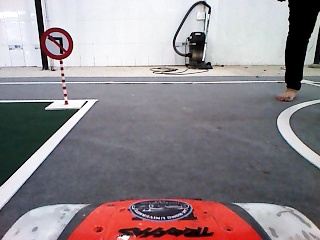ban: (40, 25, 76, 63)
